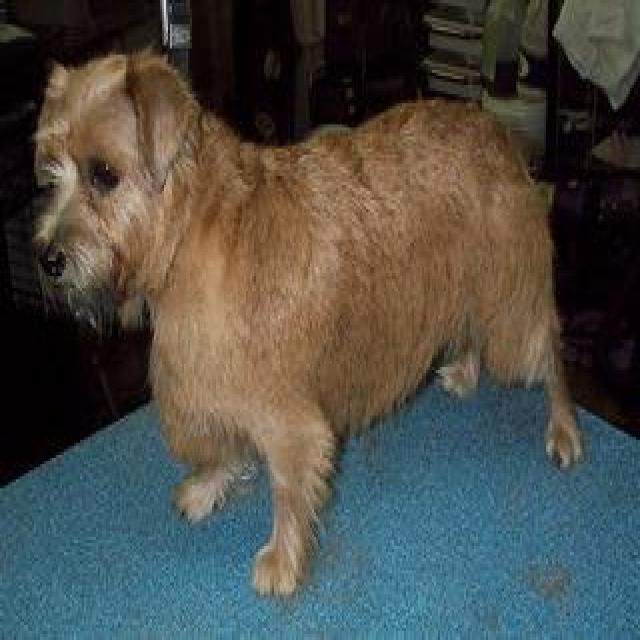dogs: (25, 27, 608, 551)
